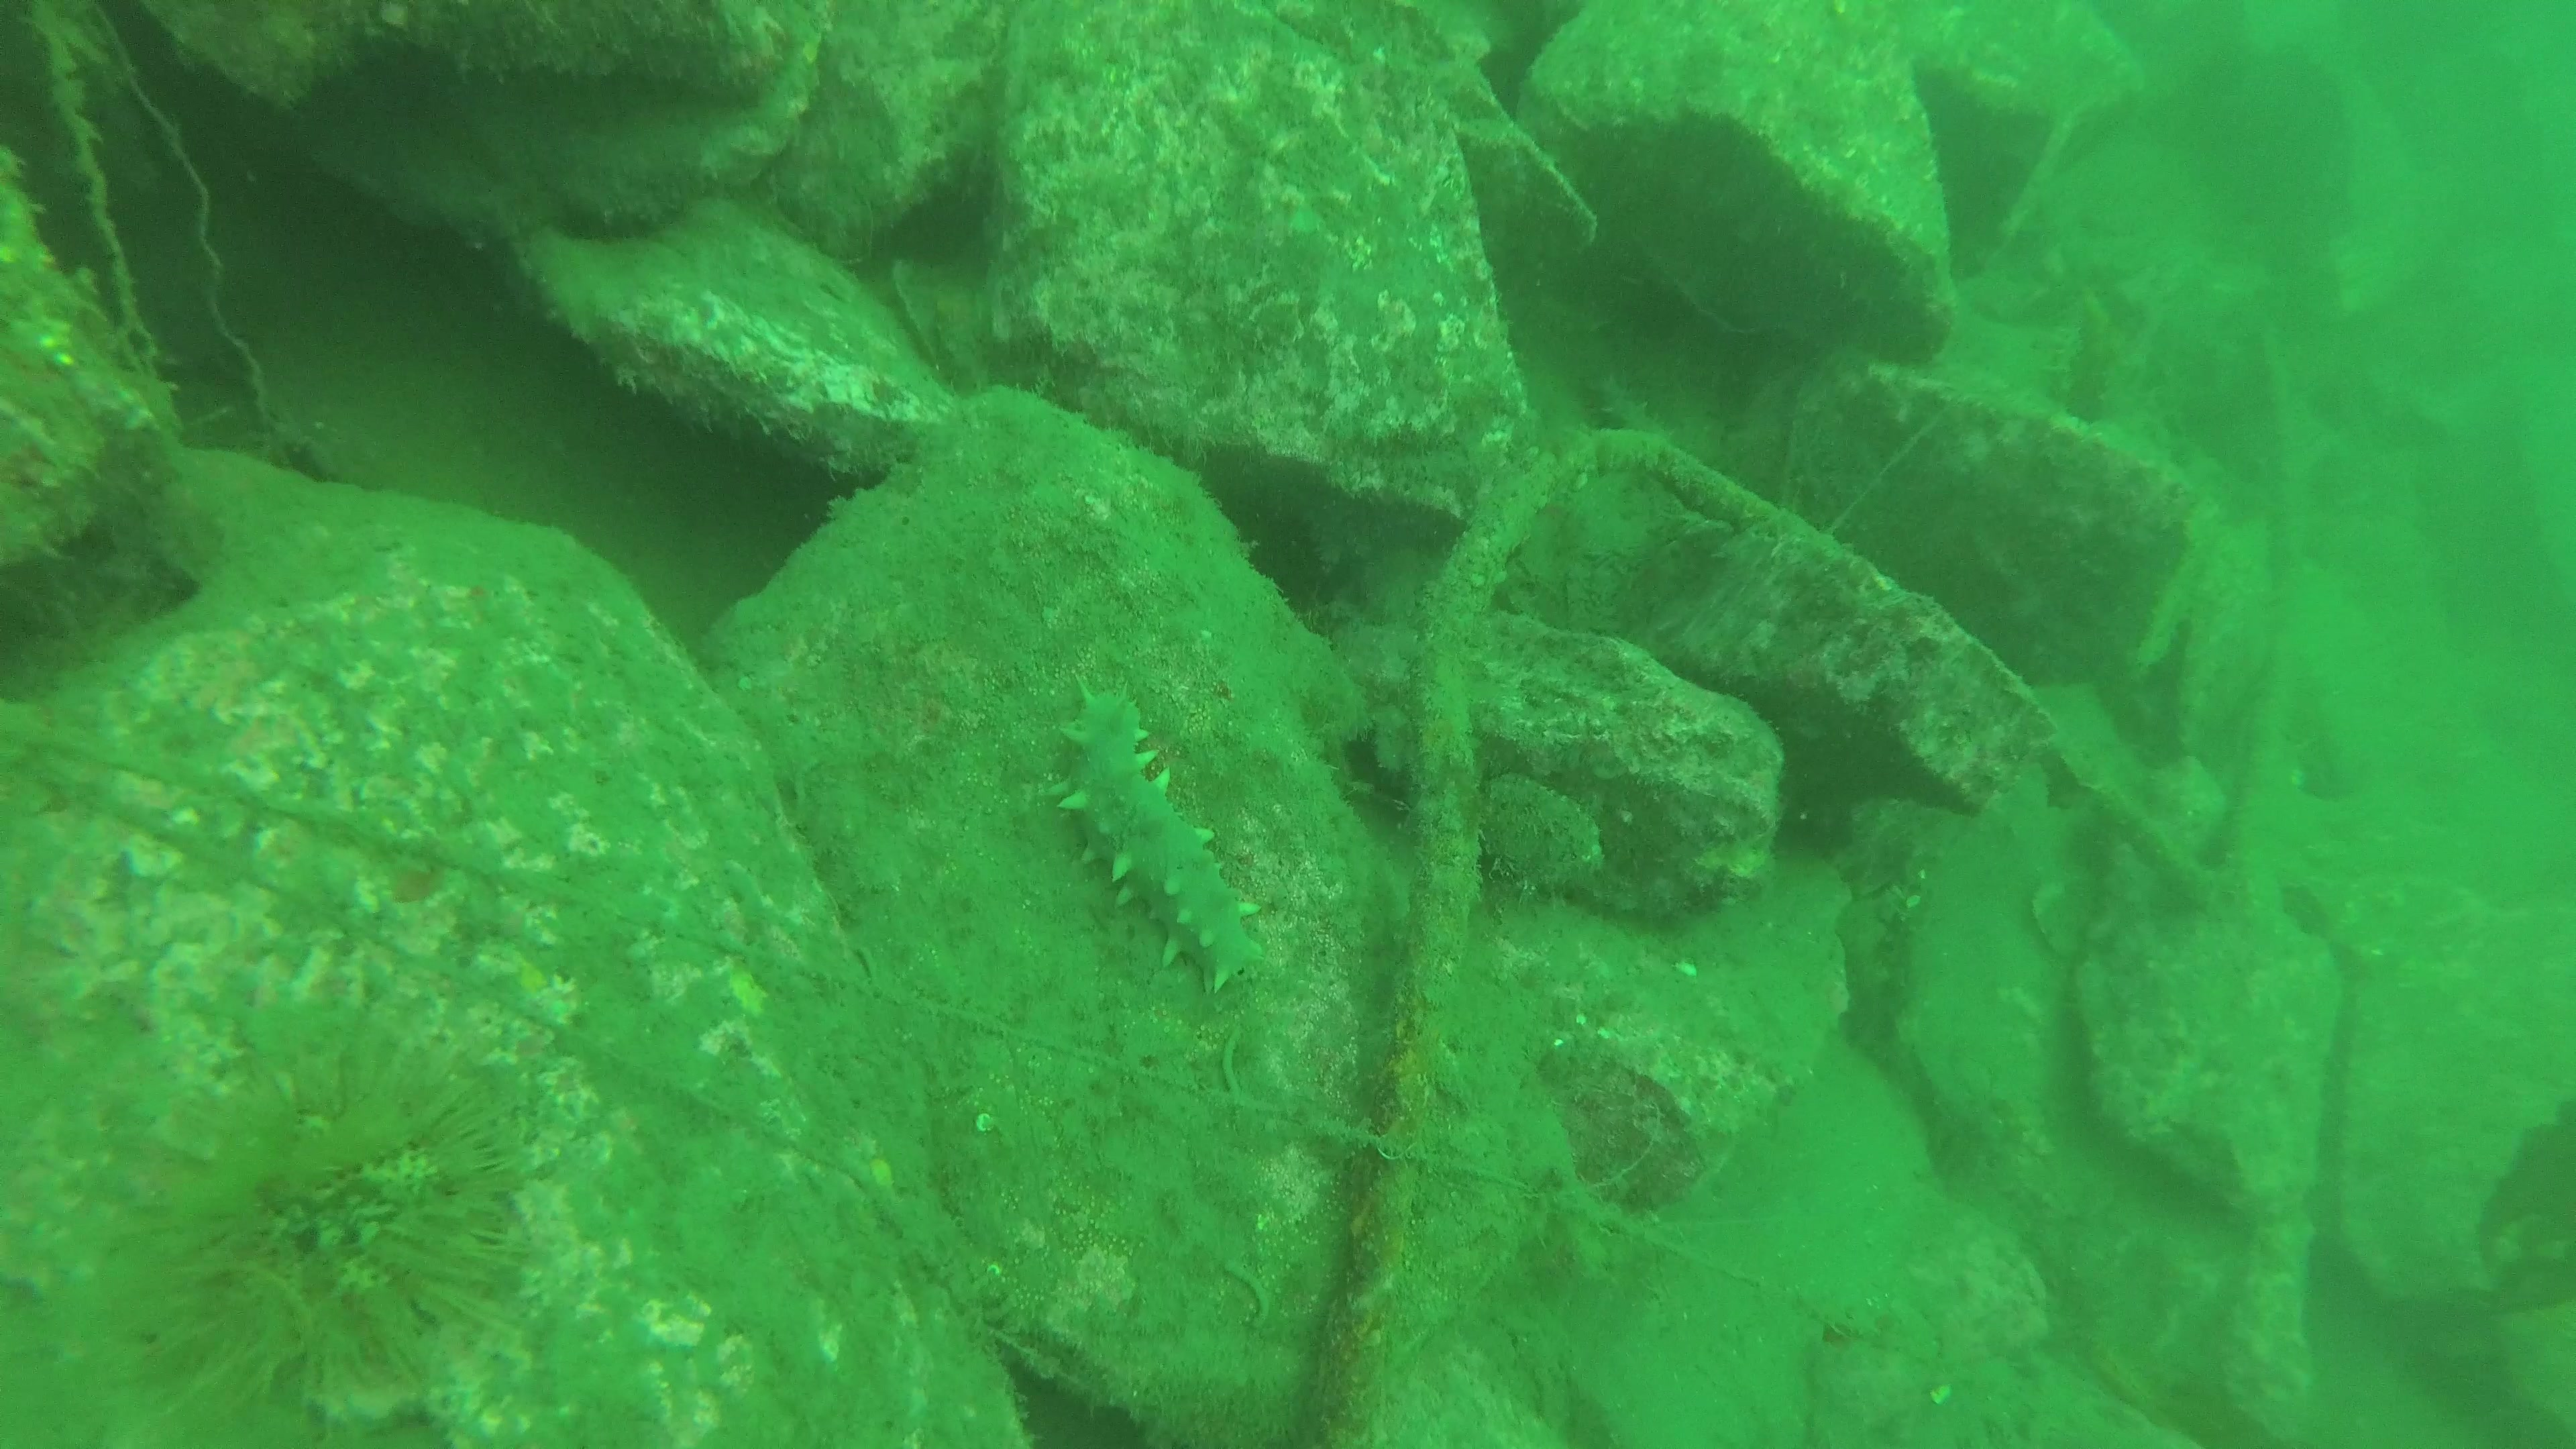echinus: (94, 1037, 536, 1442)
holothurian: (1054, 671, 1270, 993)
